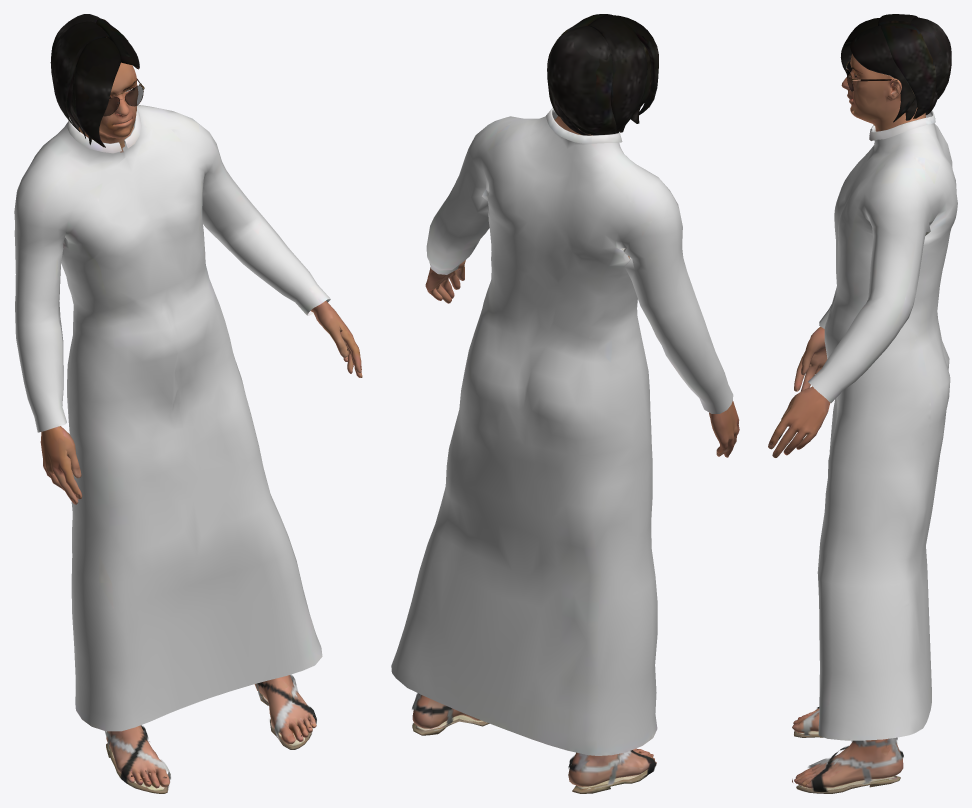
3 views of the same model, side by side, from view 1: azimuth 30°, elevation 25°; view 2: azimuth 150°, elevation 25°; view 3: azimuth 270°, elevation 25° (orthographic). The views are drawn at different scales.
Visible parts, largest first — view 1: robesv1_w004; view 2: robesv1_w004; view 3: robesv1_w004.
Part boxes in pixels (<box>): robesv1_w004: <box>14,14,362,793</box>; robesv1_w004: <box>391,14,739,793</box>; robesv1_w004: <box>768,14,957,793</box>.
Size of the model in its own units: 0.746 by 1.75 by 0.4258.
Materials: 1 (1 with a texture image).
